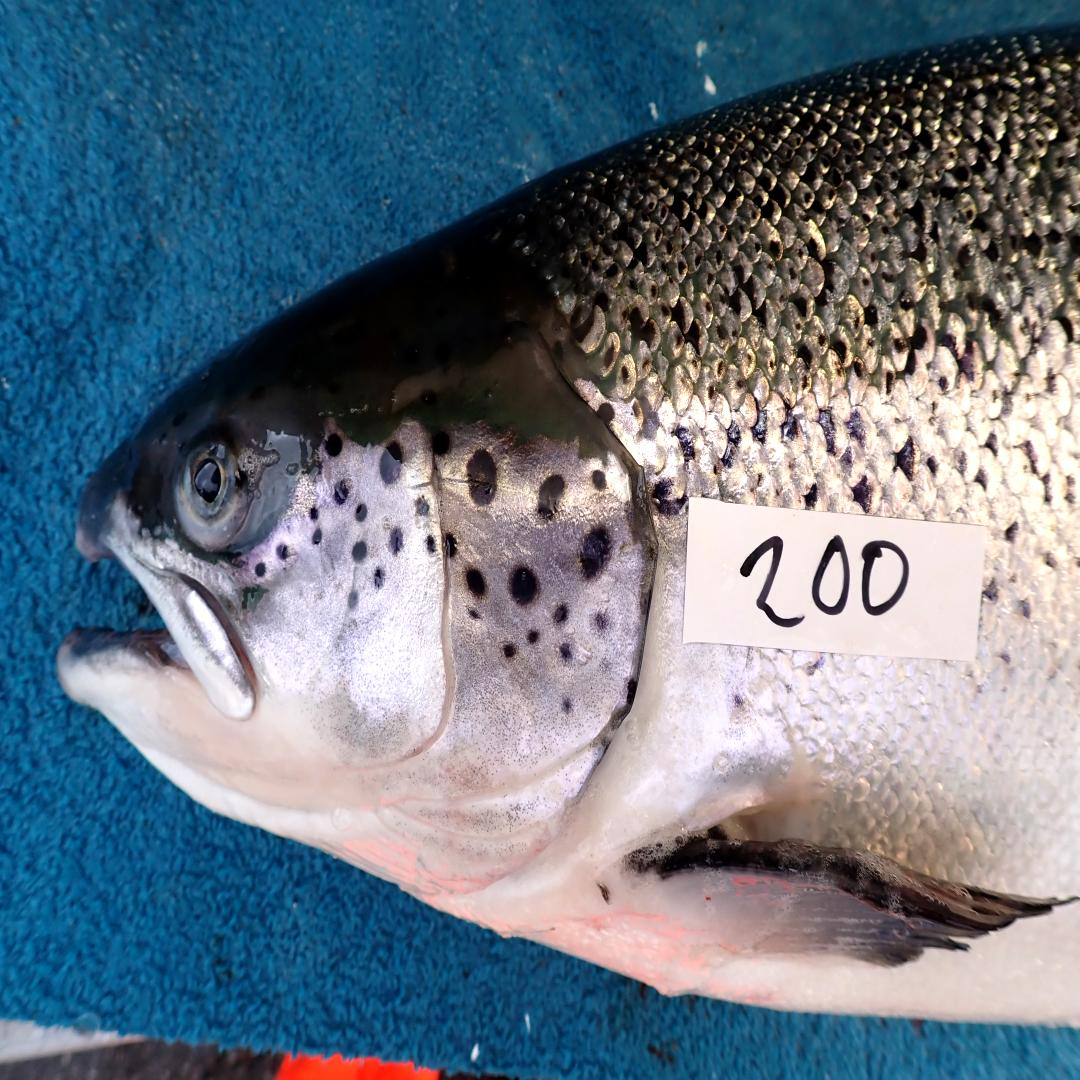roi: (252, 420, 652, 901)
